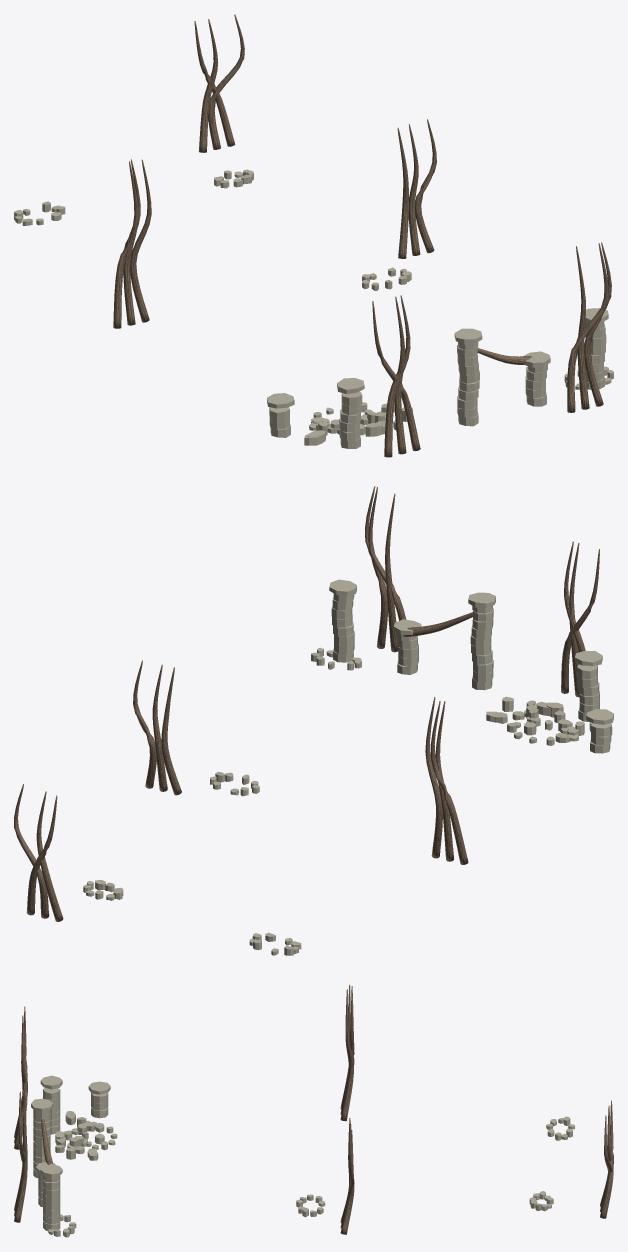
Rendered from R3_UniqueLandmarks.fbx.
3 views of the same model, one above another, from view 1: azimuth 30°, elevation 25°; view 2: azimuth 150°, elevation 25°; view 3: azimuth 270°, elevation 25° (orthographic). The views are drawn at different scales.
Parts seen in each view (by area): view 1: R3_UniqueLandmarks; view 2: R3_UniqueLandmarks; view 3: R3_UniqueLandmarks.
Part boxes in pixels (box(x1,y1,x2,y2)): R3_UniqueLandmarks: box(14, 14, 613, 457); R3_UniqueLandmarks: box(14, 486, 613, 955); R3_UniqueLandmarks: box(14, 984, 613, 1237).
Bounding box in the file's own units: 32.23 × 15.12 × 62.47.
